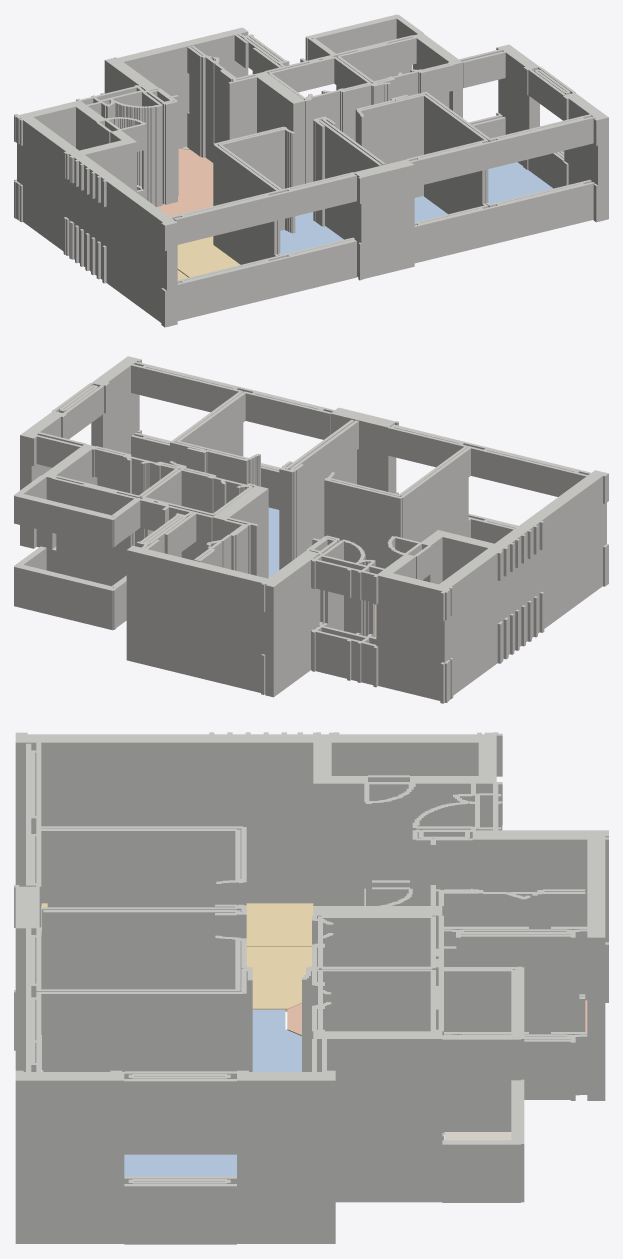
The picture shows the model from 3 angles, top to bottom: view 1: azimuth 30°, elevation 25°; view 2: azimuth 150°, elevation 25°; view 3: azimuth 270°, elevation 25°; orthographic projection. The views are drawn at different scales.
Parts seen in each view (by area): view 1: walls, room:kitchen:10, room:bedroom:8, room:living:5, room:bedroom:6, room:bedroom:7; view 2: walls, room:bedroom:7; view 3: walls, room:living:5, room:living:4, room:bedroom:6, room:bedroom:8.
Part boxes in pixels (box(x1,y1,x2,y2)): walls: box(14, 14, 608, 327); room:kitchen:10: box(157, 148, 213, 216); room:bedroom:8: box(488, 162, 552, 203); room:living:5: box(177, 236, 240, 277); room:bedroom:6: box(280, 212, 343, 254); room:bedroom:7: box(414, 196, 447, 222); walls: box(14, 356, 608, 703); room:bedroom:7: box(268, 507, 279, 577); walls: box(14, 732, 608, 1244); room:living:5: box(246, 946, 311, 1011); room:living:4: box(41, 903, 313, 946); room:bedroom:6: box(41, 1009, 301, 1071); room:bedroom:8: box(124, 1154, 236, 1176).
Bounding box in the file's own units: 12.82 × 2.8 × 9.24.
